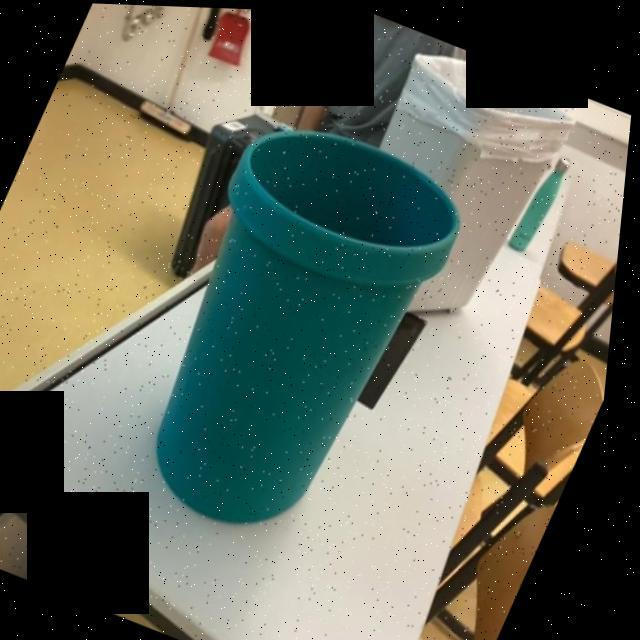bin: (89, 77, 500, 572), (313, 31, 588, 322)
